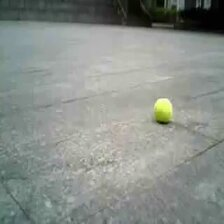tennis: (154, 98, 172, 121)
